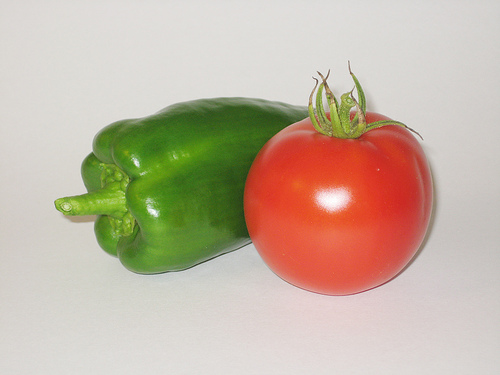capsicum: (55, 97, 323, 276)
